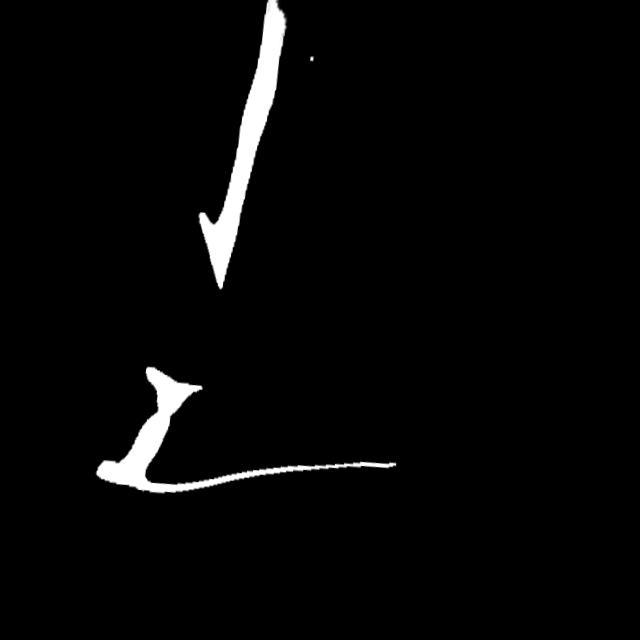sl: (258, 0, 300, 31)
